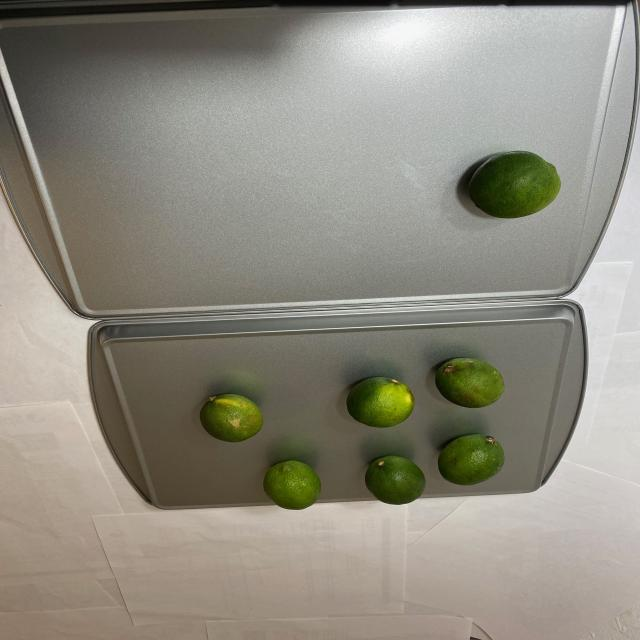lemon: (186, 354, 525, 504), (464, 147, 560, 220)
